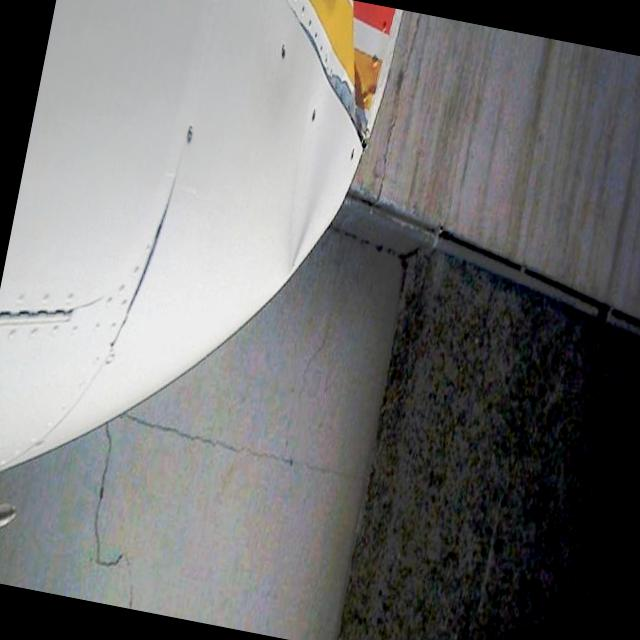dent: (270, 0, 409, 299)
